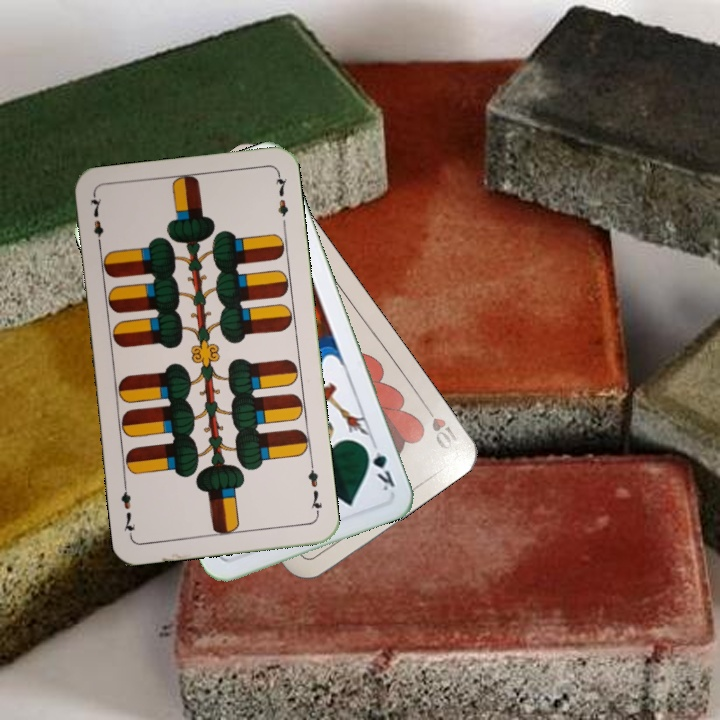E7: (303, 459, 325, 518), (85, 192, 107, 251)
GK: (360, 440, 398, 494)
H10: (419, 398, 464, 452)
